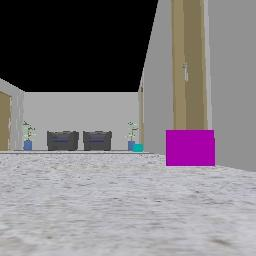fotoliu: (47, 131, 76, 150), (83, 131, 110, 150)
mov: (166, 130, 214, 165)
planta: (23, 121, 34, 150)
turcoaz: (133, 144, 143, 151)
